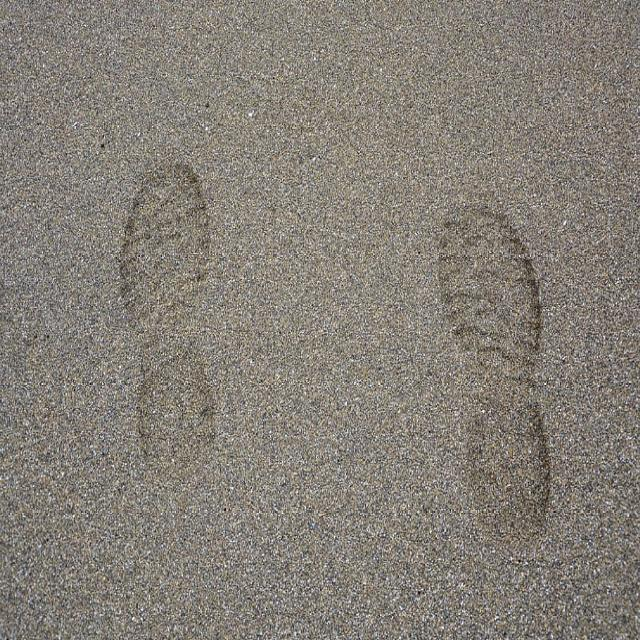human_foot_print: (85, 82, 618, 617)
